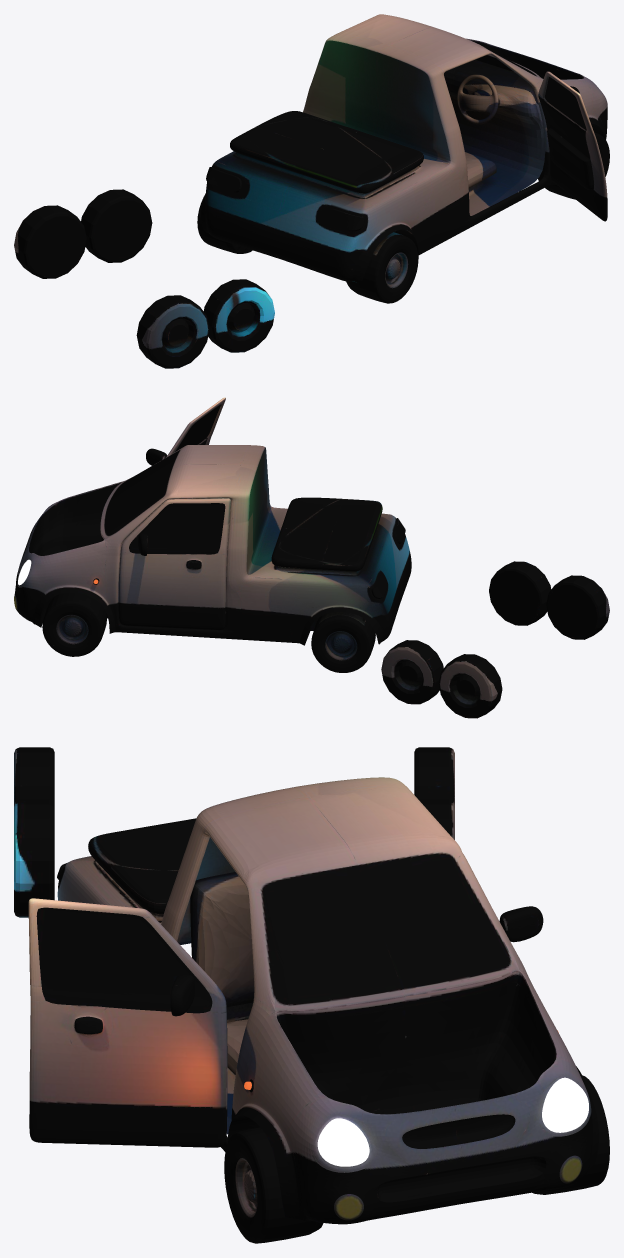
The model's file is car.glb.
3 views of the same model, one above another, from view 1: azimuth 30°, elevation 25°; view 2: azimuth 150°, elevation 25°; view 3: azimuth 270°, elevation 25° (orthographic). The views are drawn at different scales.
Parts seen in each view (by area): view 1: Car Body; view 2: Car Body; view 3: Car Body.
Part boxes in pixels (x1=…): Car Body: x1=14, y1=14, x2=609, y2=368; Car Body: x1=14, y1=397, x2=609, y2=718; Car Body: x1=14, y1=747, x2=609, y2=1243.
Bounding box in the file's own units: 4.34 × 1.38 × 2.47.
3 materials, 1 textured.
